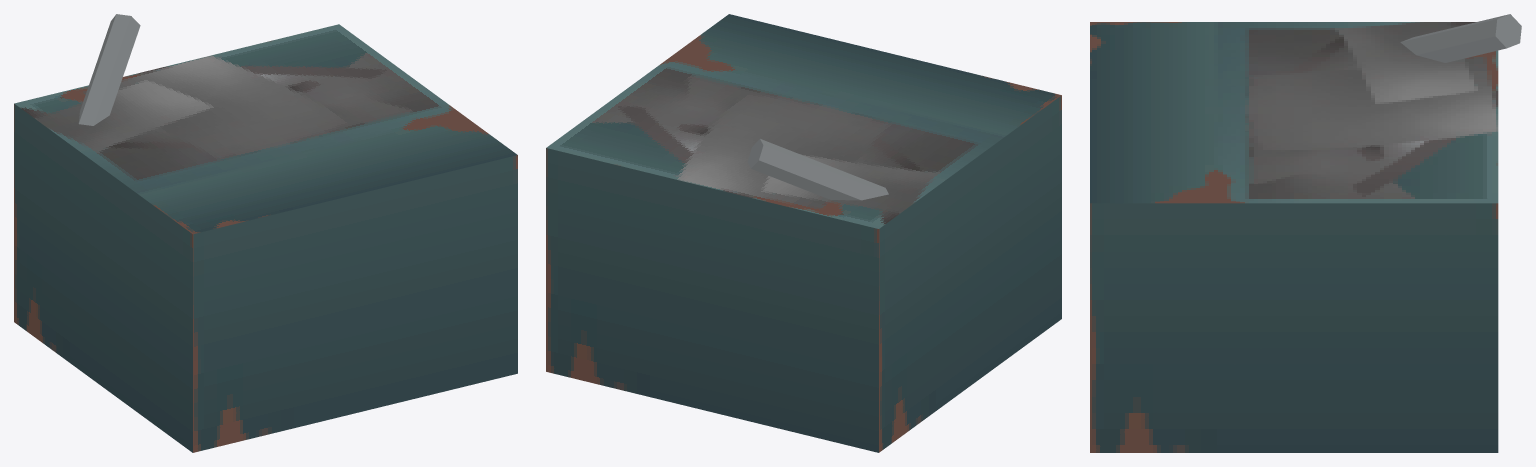
Rendered from Building_AncientBox_SteelSlag.glb.
3 renders of one model, left to right at view 1: azimuth 30°, elevation 25°; view 2: azimuth 150°, elevation 25°; view 3: azimuth 270°, elevation 25°, orthographic. The views are drawn at different scales.
Visible parts, largest first — view 1: AncientBox_SteelSlag; view 2: AncientBox_SteelSlag; view 3: AncientBox_SteelSlag.
Part boxes in pixels (left/top/right/bottom): AncientBox_SteelSlag: left=14, top=14, right=517, bottom=452; AncientBox_SteelSlag: left=546, top=14, right=1061, bottom=452; AncientBox_SteelSlag: left=1090, top=14, right=1521, bottom=452.
Size of the model in its own units: 0.84 by 0.6869 by 0.8458.
1 material, 1 textured.
